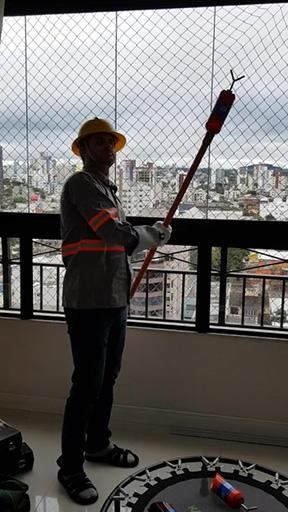Detector_Tensao_Contato: (204, 69, 245, 132)
Vara_Manobra: (129, 133, 216, 300)
